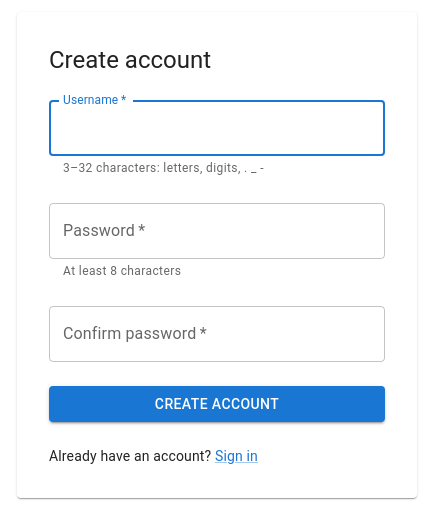
Test: RegisterRoute › client-side validation (submit-only) › rejects a too-short username and focuses it
This screenshot has width=435, height=517.
Expected: the text "Use 3–32 characters: letters, digits, . _ -" is not shown
Type "ab" into the field labelled "Username *" at x=217, y=128, box [49, 100, 385, 156]
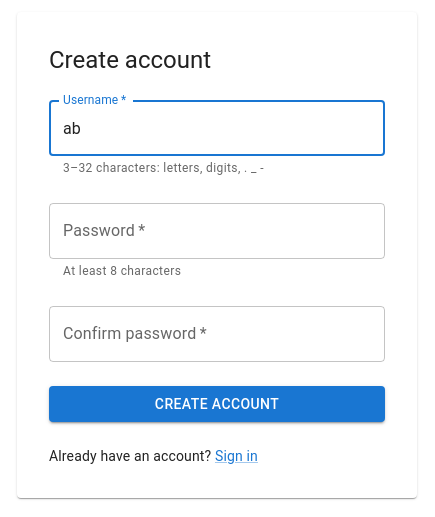
Type "longenough1" into the password field labelled "Password *" at x=217, y=231, box [49, 203, 385, 259]
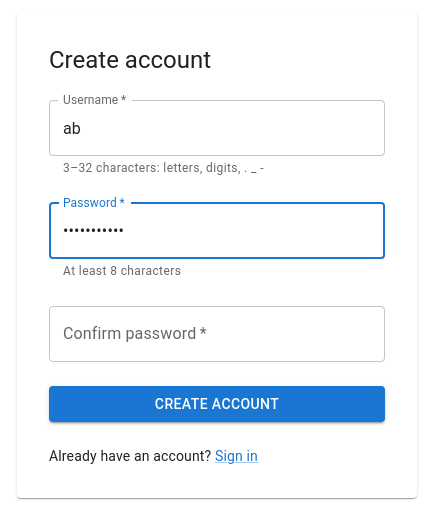
Type "longenough1" into the password field labelled "Confirm password *" at x=217, y=334, box [49, 306, 385, 362]
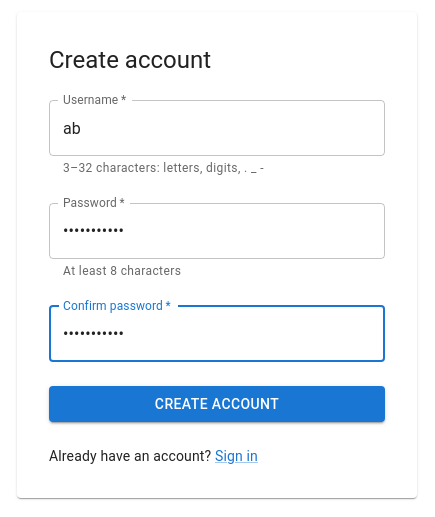
Click the button "Create account" at x=217, y=404, box [49, 386, 385, 422]
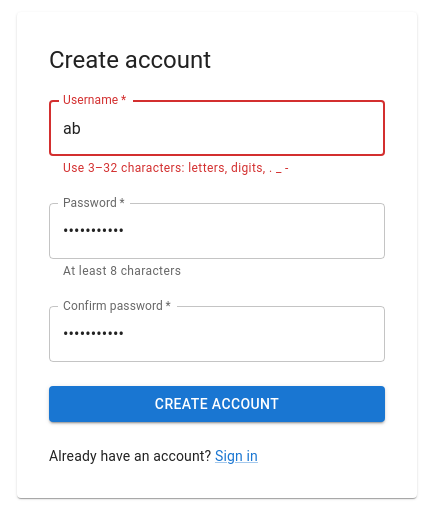
Expected: the text "Use 3–32 characters: letters, digits, . _ -" is shown, [63, 161, 289, 175]
